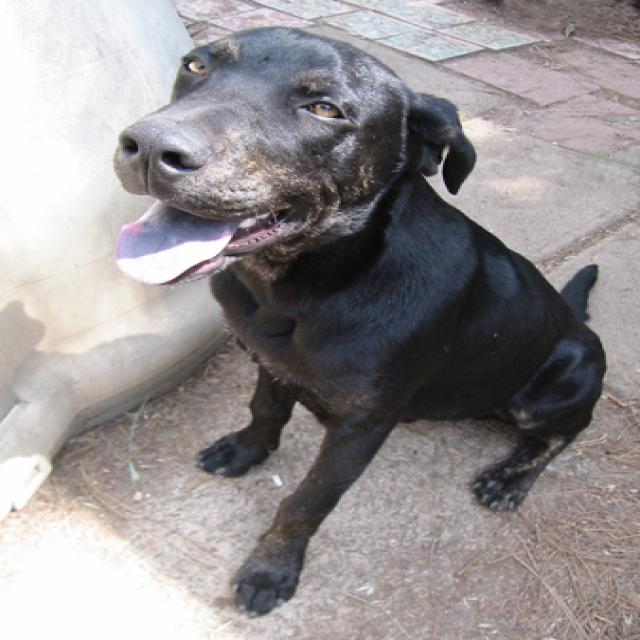Dogs: (110, 23, 608, 617)
